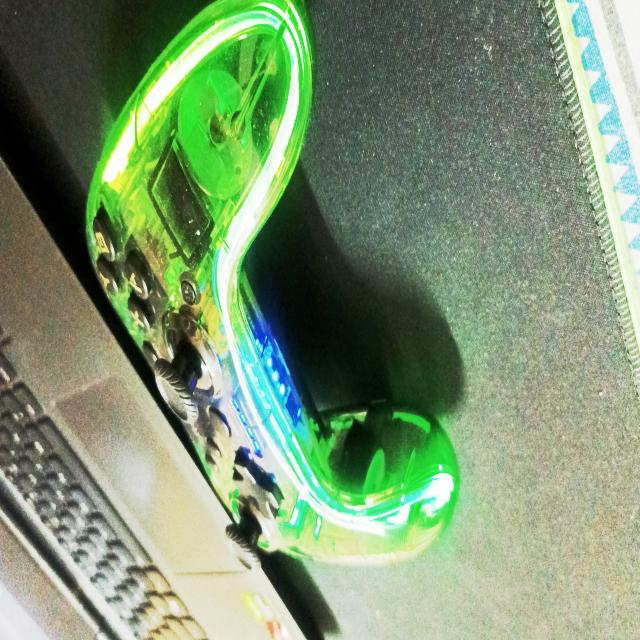gamepad: (84, 0, 461, 570)
